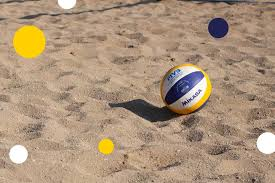ball: (160, 63, 212, 115)
